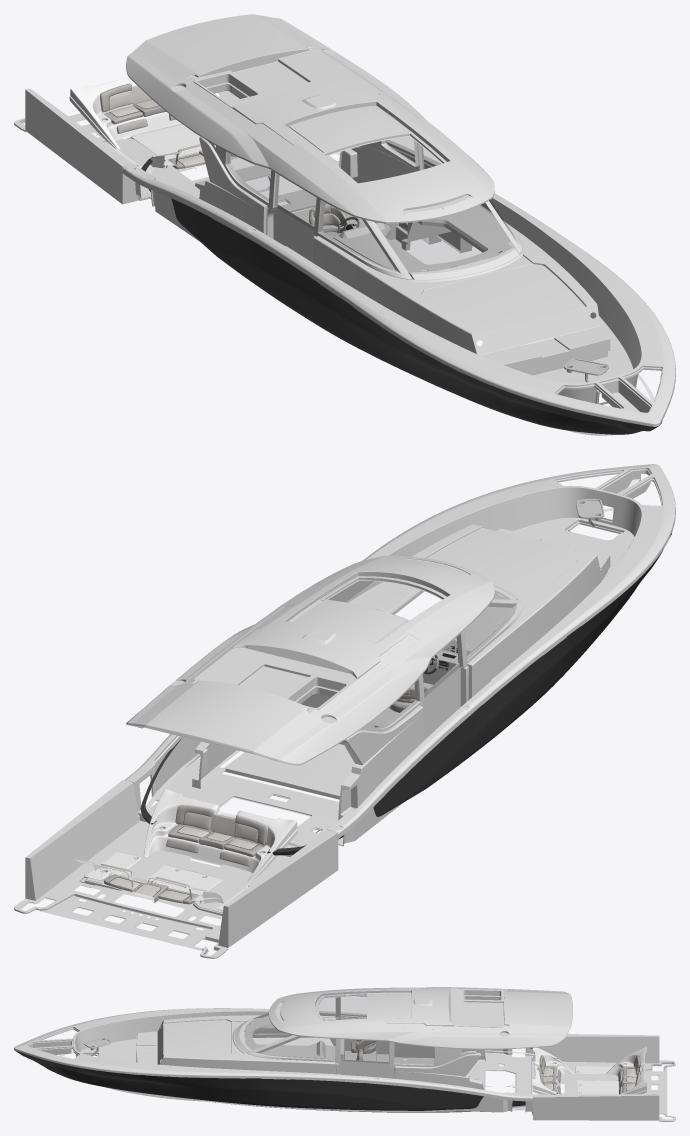
The model's file is scoutsBoat.gltf.
3 views of the same model, one above another, from view 1: azimuth 30°, elevation 25°; view 2: azimuth 150°, elevation 25°; view 3: azimuth 270°, elevation 25° (orthographic). The views are drawn at different scales.
Visible parts, largest first — view 1: Scouts_body, Scouts_hullBottomTrim, Scouts_windshieldGlass, Cube, Hull-Interior_Primary.005, Scouts_seatsSecondary, Scouts_seatsPrimary, Scouts_floorPanels; view 2: Scouts_body, Cube, Scouts_hullBottomTrim, Hull-Interior_Primary.005, Scouts_windshieldGlass, Scouts_seatsSecondary, Scouts_seatsPrimary, Scouts_floorPanels; view 3: Scouts_body, Scouts_hullBottomTrim, Cube, Scouts_windshieldGlass, Hull-Interior_Primary.005, Scouts_hullBottomBase, Scouts_seatsSecondary, Scouts_floorPanels, Scouts_seatsPrimary, Table.001.
Part boxes in pixels (left/top/right/bottom): Scouts_body: left=14, top=14, right=675, bottom=426; Scouts_hullBottomTrim: left=141, top=156, right=662, bottom=434; Scouts_windshieldGlass: left=227, top=137, right=515, bottom=271; Cube: left=25, top=88, right=241, bottom=204; Hull-Interior_Primary.005: left=69, top=78, right=237, bottom=169; Scouts_seatsSecondary: left=100, top=83, right=407, bottom=232; Scouts_seatsPrimary: left=109, top=85, right=350, bottom=235; Scouts_floorPanels: left=107, top=124, right=201, bottom=167; Scouts_body: left=14, top=464, right=675, bottom=958; Cube: left=25, top=780, right=338, bottom=947; Scouts_hullBottomTrim: left=140, top=533, right=671, bottom=855; Hull-Interior_Primary.005: left=72, top=789, right=297, bottom=905; Scouts_windshieldGlass: left=329, top=581, right=516, bottom=727; Scouts_seatsSecondary: left=100, top=687, right=427, bottom=904; Scouts_seatsPrimary: left=109, top=684, right=428, bottom=903; Scouts_floorPanels: left=84, top=851, right=252, bottom=910; Scouts_body: left=14, top=987, right=675, bottom=1121; Scouts_hullBottomTrim: left=15, top=1048, right=557, bottom=1110; Cube: left=533, top=1034, right=659, bottom=1120; Scouts_windshieldGlass: left=245, top=996, right=433, bottom=1064; Hull-Interior_Primary.005: left=532, top=1046, right=646, bottom=1094; Scouts_hullBottomBase: left=59, top=1045, right=534, bottom=1112; Scouts_seatsSecondary: left=351, top=1040, right=639, bottom=1094; Scouts_floorPanels: left=575, top=1065, right=617, bottom=1094; Scouts_seatsPrimary: left=356, top=1040, right=642, bottom=1090; Table.001: left=84, top=1037, right=111, bottom=1056.
Bounding box in the file's own units: 4.88 × 3.43 × 20.25.
Materials: 11 (2 with a texture image).
